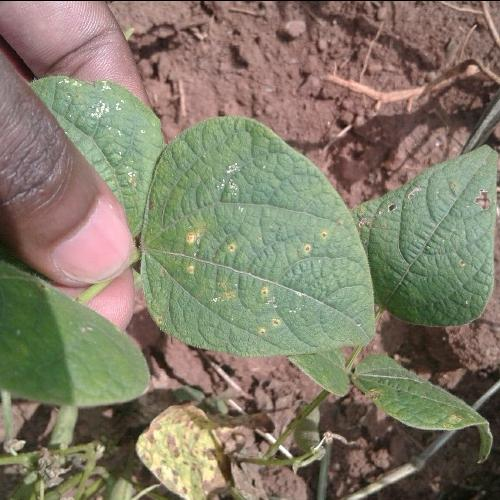hawar: (168, 191, 339, 332)
